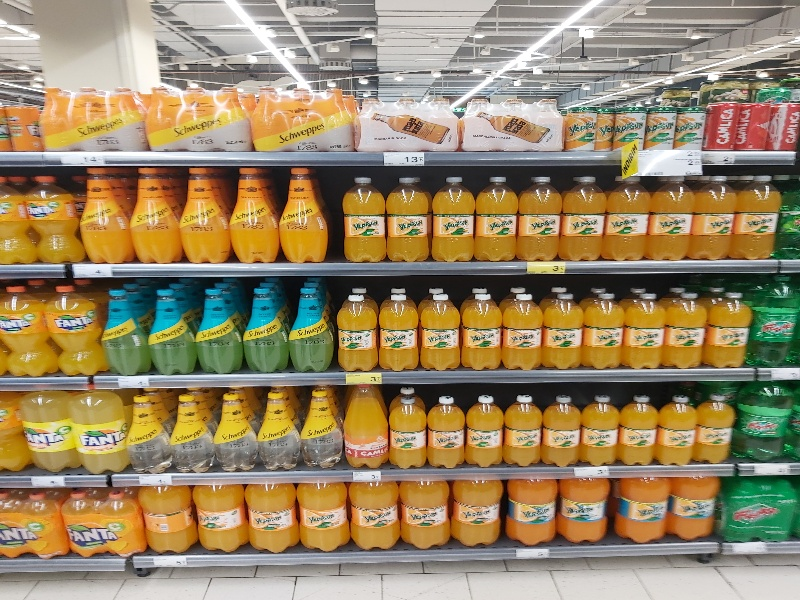product: (352, 93, 460, 158), (455, 94, 563, 159), (743, 265, 800, 368), (44, 274, 100, 377), (12, 384, 76, 474), (69, 383, 133, 473), (75, 166, 133, 265), (126, 165, 184, 264), (168, 165, 226, 264), (221, 167, 279, 266), (269, 163, 327, 262), (237, 275, 290, 378), (95, 274, 147, 377), (145, 271, 197, 374), (193, 268, 245, 371), (282, 277, 334, 380), (724, 474, 800, 542), (738, 375, 796, 464), (240, 475, 300, 557), (137, 477, 196, 559), (188, 479, 247, 561), (292, 474, 351, 556), (342, 475, 401, 557), (393, 476, 452, 558), (334, 272, 380, 375), (375, 276, 421, 379), (416, 274, 462, 377), (458, 271, 504, 374), (497, 274, 543, 377), (540, 276, 586, 379), (580, 274, 626, 377), (624, 269, 670, 372), (665, 273, 711, 376), (706, 271, 752, 374), (27, 169, 79, 260), (1, 275, 46, 378), (449, 472, 508, 549), (501, 474, 560, 551), (556, 469, 615, 546), (734, 168, 781, 264), (125, 383, 173, 473), (165, 383, 213, 473), (209, 384, 257, 474), (252, 386, 300, 476), (296, 382, 344, 472), (339, 385, 387, 475), (380, 388, 428, 478), (343, 165, 386, 265), (384, 162, 427, 262), (428, 163, 471, 263), (473, 159, 516, 259), (517, 161, 560, 261), (561, 162, 604, 262), (604, 164, 647, 264), (649, 164, 692, 264), (690, 167, 733, 267), (423, 385, 468, 473), (460, 386, 505, 474), (500, 383, 545, 471), (539, 381, 584, 469), (577, 381, 622, 469), (614, 475, 670, 545), (667, 473, 723, 543), (618, 381, 660, 467), (655, 379, 697, 465), (690, 381, 732, 467), (59, 485, 100, 561), (22, 486, 62, 562), (95, 482, 135, 558), (104, 79, 142, 151), (140, 81, 178, 153), (176, 79, 214, 151), (209, 82, 247, 154), (245, 82, 283, 154), (281, 83, 319, 155), (309, 80, 347, 152), (1, 165, 25, 268), (560, 100, 601, 157), (607, 97, 648, 154), (37, 81, 69, 154), (72, 80, 104, 153), (706, 96, 742, 152), (736, 98, 772, 154), (671, 104, 712, 151), (641, 101, 677, 151)
